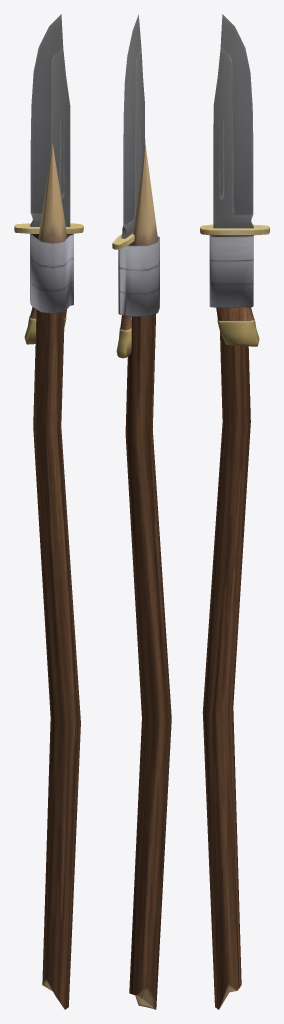
The model's file is SpearHuntingKnife.fbx.
3 renders of one model, left to right at view 1: azimuth 90°, elevation 25°; view 2: azimuth 150°, elevation 25°; view 3: azimuth 270°, elevation 25°, orthographic.
Visible parts, largest first — view 1: HuntingKnife; view 2: HuntingKnife; view 3: HuntingKnife.
Boxes of the visible parts, x1,y1,x2,y2 form: HuntingKnife: [14, 14, 83, 1009]; HuntingKnife: [112, 14, 171, 1009]; HuntingKnife: [200, 14, 269, 1009].
Size of the model in its own units: 0.0322 by 0.8466 by 0.0538.
